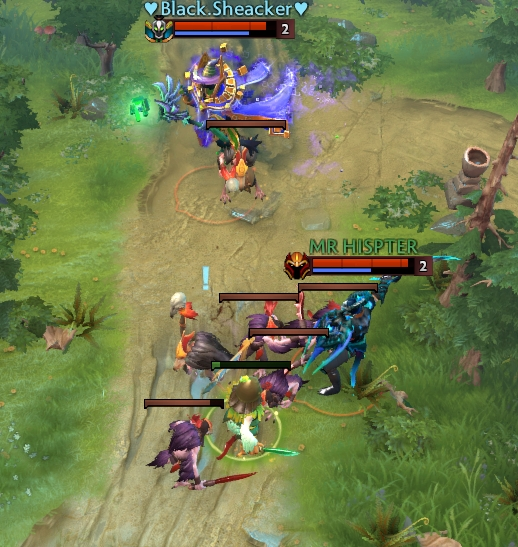allyCreep: (207, 355, 296, 373)
enemyCreep: (214, 289, 305, 305), (138, 395, 225, 410), (201, 118, 290, 132), (244, 324, 330, 338), (292, 281, 383, 293)
